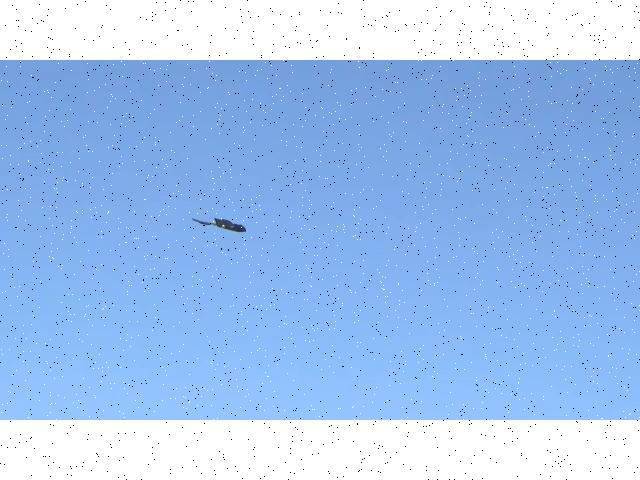Anti-Drone: (190, 206, 254, 242)
